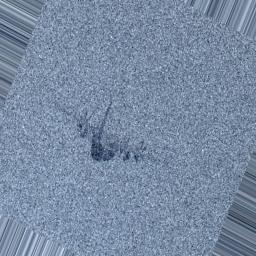Airplane: (63, 99, 154, 167)
